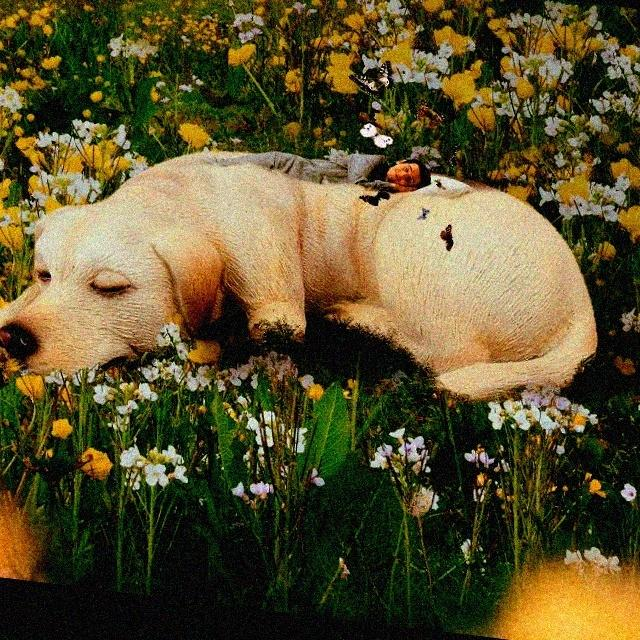dog: (0, 150, 239, 409)
